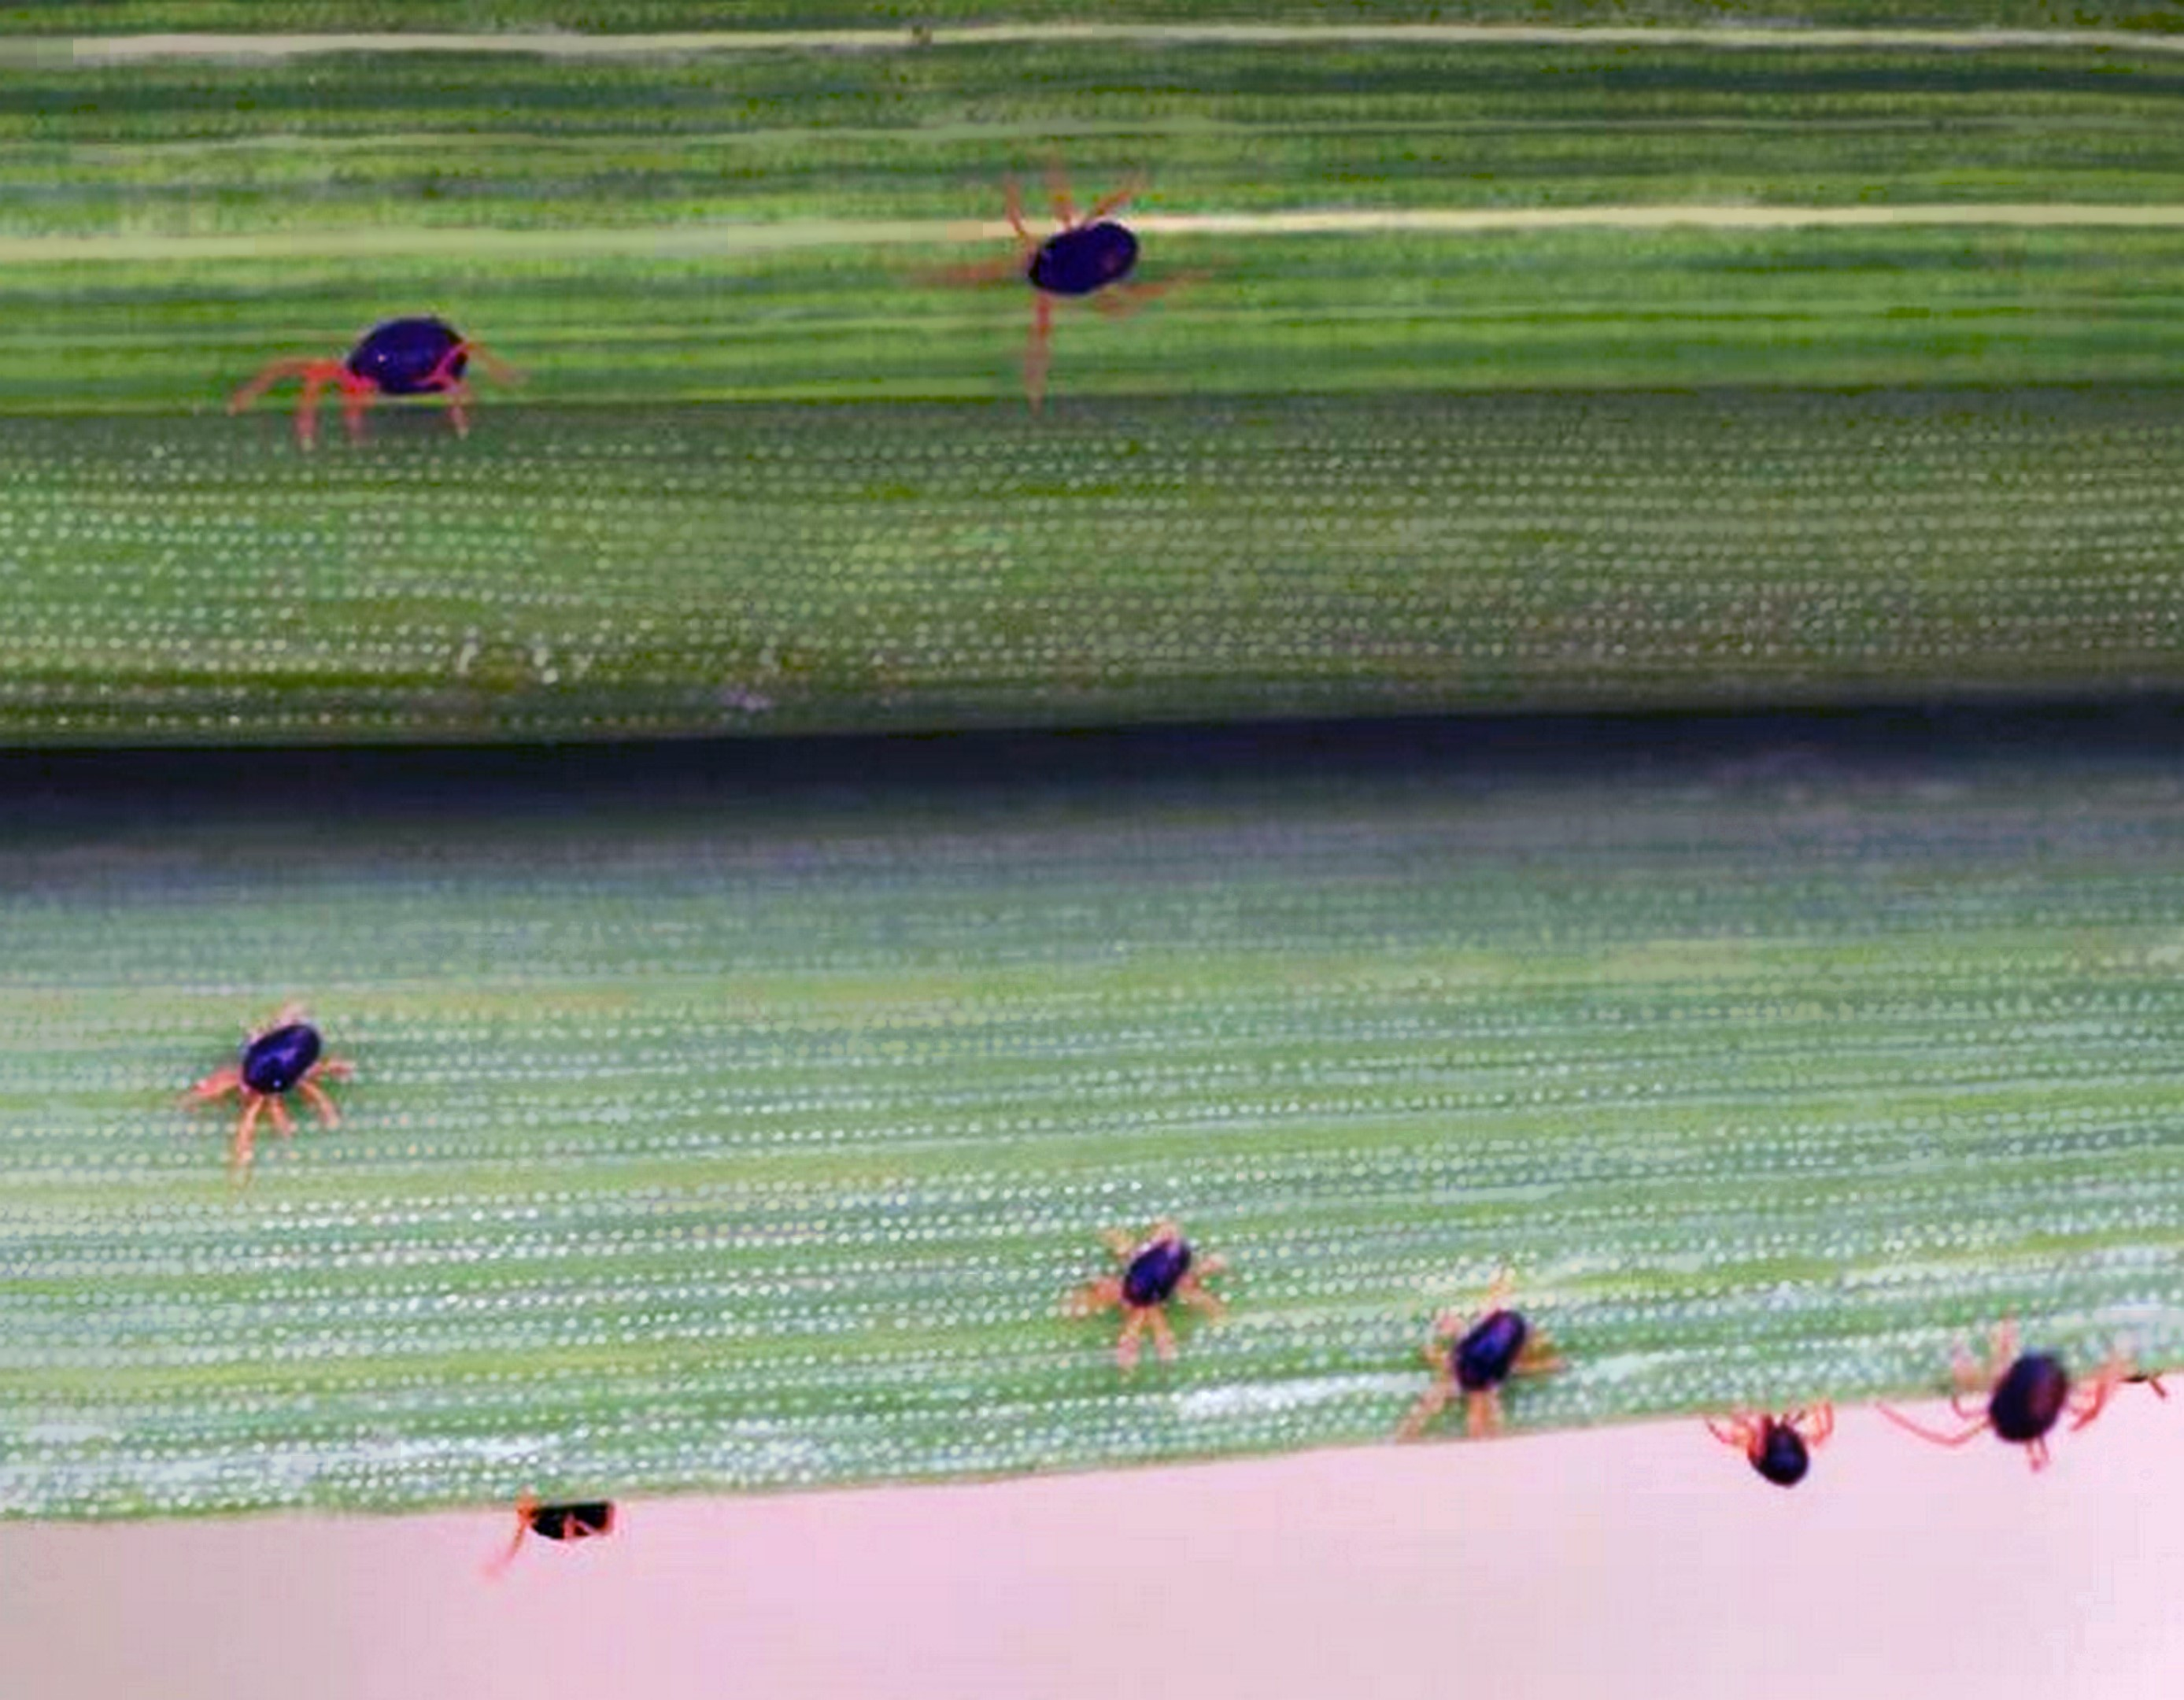Wheat Red Spider: (213, 289, 542, 468), (167, 975, 372, 1174)
